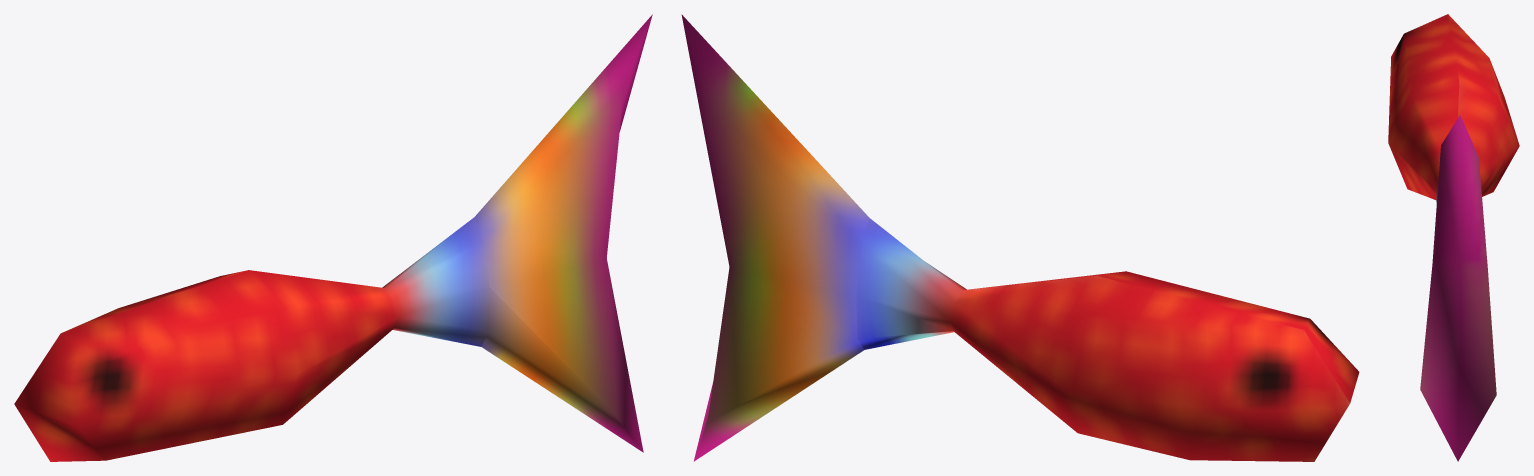
Rendered from fish_ocolorful.fbx.
3 renders of one model, left to right at view 1: azimuth 30°, elevation 25°; view 2: azimuth 150°, elevation 25°; view 3: azimuth 270°, elevation 25°, orthographic. The views are drawn at different scales.
Visible parts, largest first — view 1: fish_colorful; view 2: fish_colorful; view 3: fish_colorful.
Boxes of the visible parts, box(x1,y1,x2,y2) form: fish_colorful: box(14, 14, 652, 461); fish_colorful: box(681, 14, 1359, 461); fish_colorful: box(1388, 14, 1519, 461).
Size of the model in its own units: 20.96 by 13.51 by 4.59.
